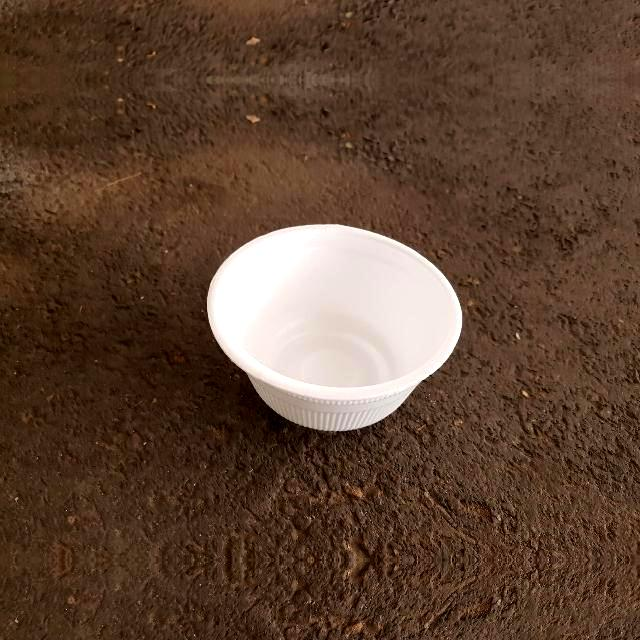Styrofoam: (204, 222, 464, 434), (207, 224, 463, 431)
